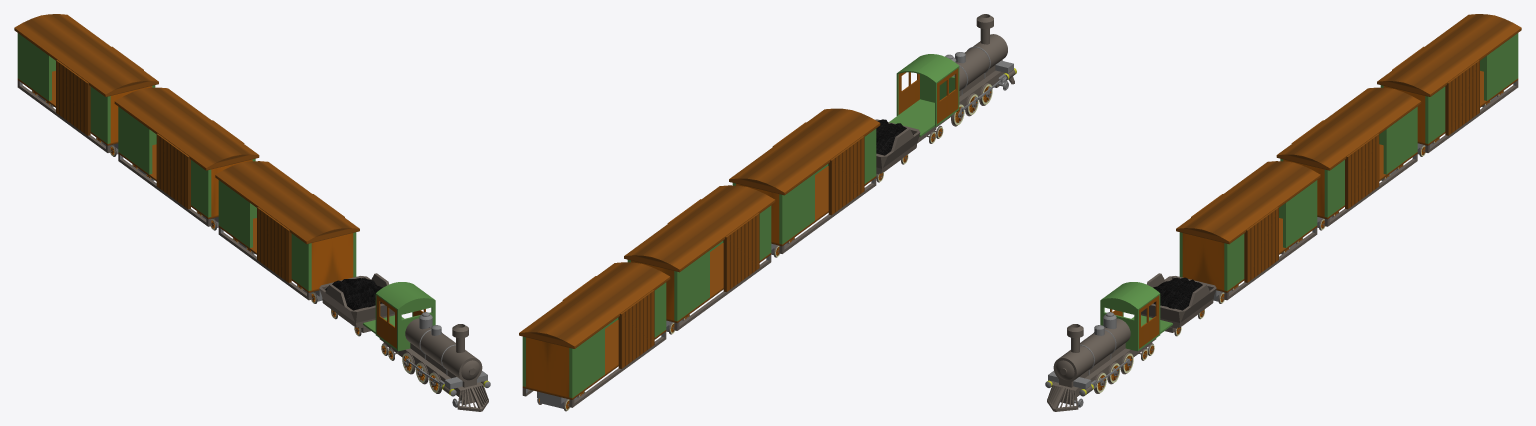
Rendered from trainCarriage.obj.
3 views of the same model, side by side, from view 1: azimuth 30°, elevation 25°; view 2: azimuth 150°, elevation 25°; view 3: azimuth 330°, elevation 25° (orthographic). The views are drawn at different scales.
Visible parts, largest first — view 1: Cube.007_Cube.005, Cube.002, Cube.006_Cube.007, Cube.003, Cube.001; view 2: Cube.007_Cube.005, Cube.002, Cube.006_Cube.007, Cube.001, Cube.003; view 3: Cube.007_Cube.005, Cube.002, Cube.006_Cube.007, Cube.003, Cube.001.
Boxes of the visible parts, <box> form: Cube.007_Cube.005: <box>14,14,359,303</box>; Cube.002: <box>363,282,490,411</box>; Cube.006_Cube.007: <box>319,273,394,332</box>; Cube.003: <box>325,278,382,310</box>; Cube.001: <box>381,343,461,407</box>; Cube.007_Cube.005: <box>519,108,880,411</box>; Cube.002: <box>889,14,1016,142</box>; Cube.006_Cube.007: <box>875,119,920,176</box>; Cube.001: <box>925,81,1008,143</box>; Cube.003: <box>876,119,913,155</box>; Cube.007_Cube.005: <box>1176,14,1521,303</box>; Cube.002: <box>1045,282,1172,411</box>; Cube.006_Cube.007: <box>1141,273,1216,332</box>; Cube.003: <box>1153,277,1210,310</box>; Cube.001: <box>1074,343,1154,407</box>.
Bounding box in the file's own units: 4.85 × 6.29 × 66.61.
2 materials, 2 textured.
